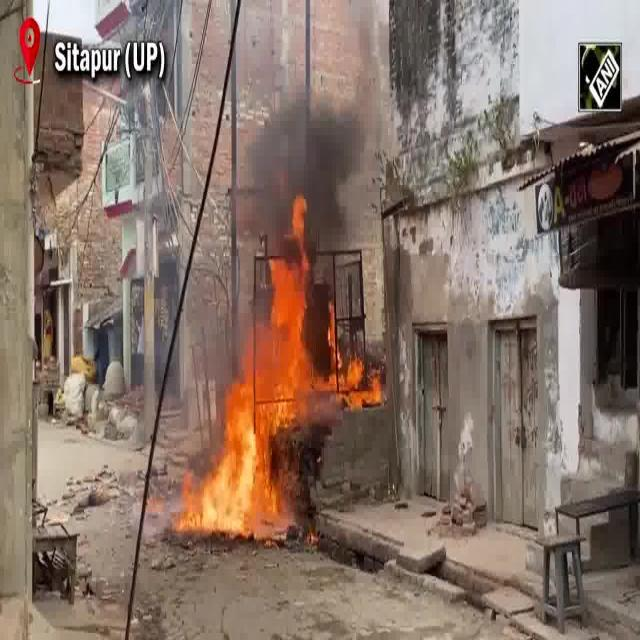Fire: (254, 109, 352, 232), (207, 391, 270, 531), (270, 260, 301, 418)
